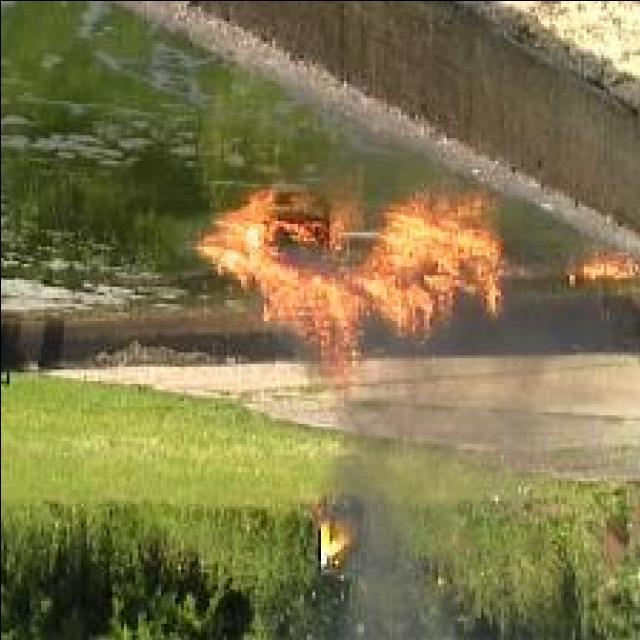Fire: (192, 185, 506, 388), (566, 255, 640, 286)
